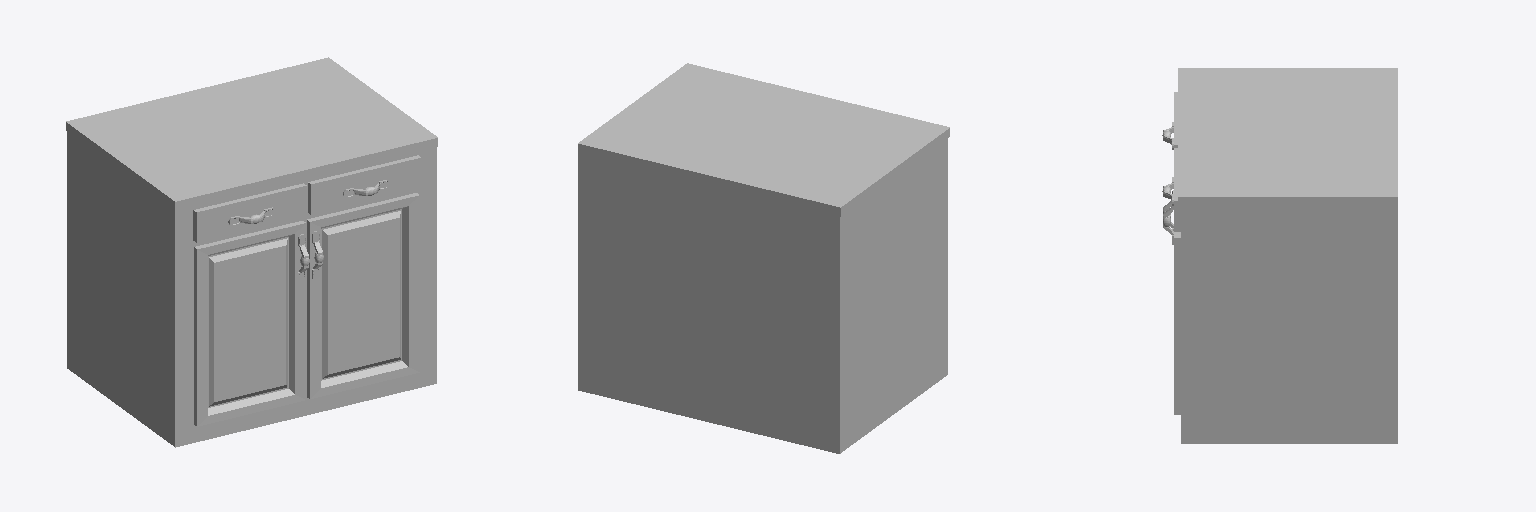
File: 2DoorLowerCabinet.obj
The picture shows the model from 3 angles: view 1: azimuth 30°, elevation 25°; view 2: azimuth 150°, elevation 25°; view 3: azimuth 270°, elevation 25°; orthographic projection.
Visible parts, largest first — view 1: PolyMesh_4, PolyMesh_6, PolyMesh_1_3, PolyMesh_1, Cube_3_2, Cube_3_3; view 2: PolyMesh_4, PolyMesh_6; view 3: PolyMesh_4, PolyMesh_6, PolyMesh_1_3.
Part boxes in pixels (x1,y1,x2,y2): PolyMesh_4: (67, 132, 436, 447); PolyMesh_6: (66, 57, 437, 210); PolyMesh_1_3: (307, 193, 419, 398); PolyMesh_1: (194, 221, 305, 426); Cube_3_2: (193, 183, 306, 242); Cube_3_3: (308, 155, 420, 214); PolyMesh_4: (578, 139, 947, 453); PolyMesh_6: (578, 63, 949, 216); PolyMesh_4: (1181, 206, 1397, 443); PolyMesh_6: (1178, 68, 1397, 205); PolyMesh_1_3: (1174, 232, 1180, 414).
Bounding box in the file's own units: 7.29 × 6.54 × 5.64.